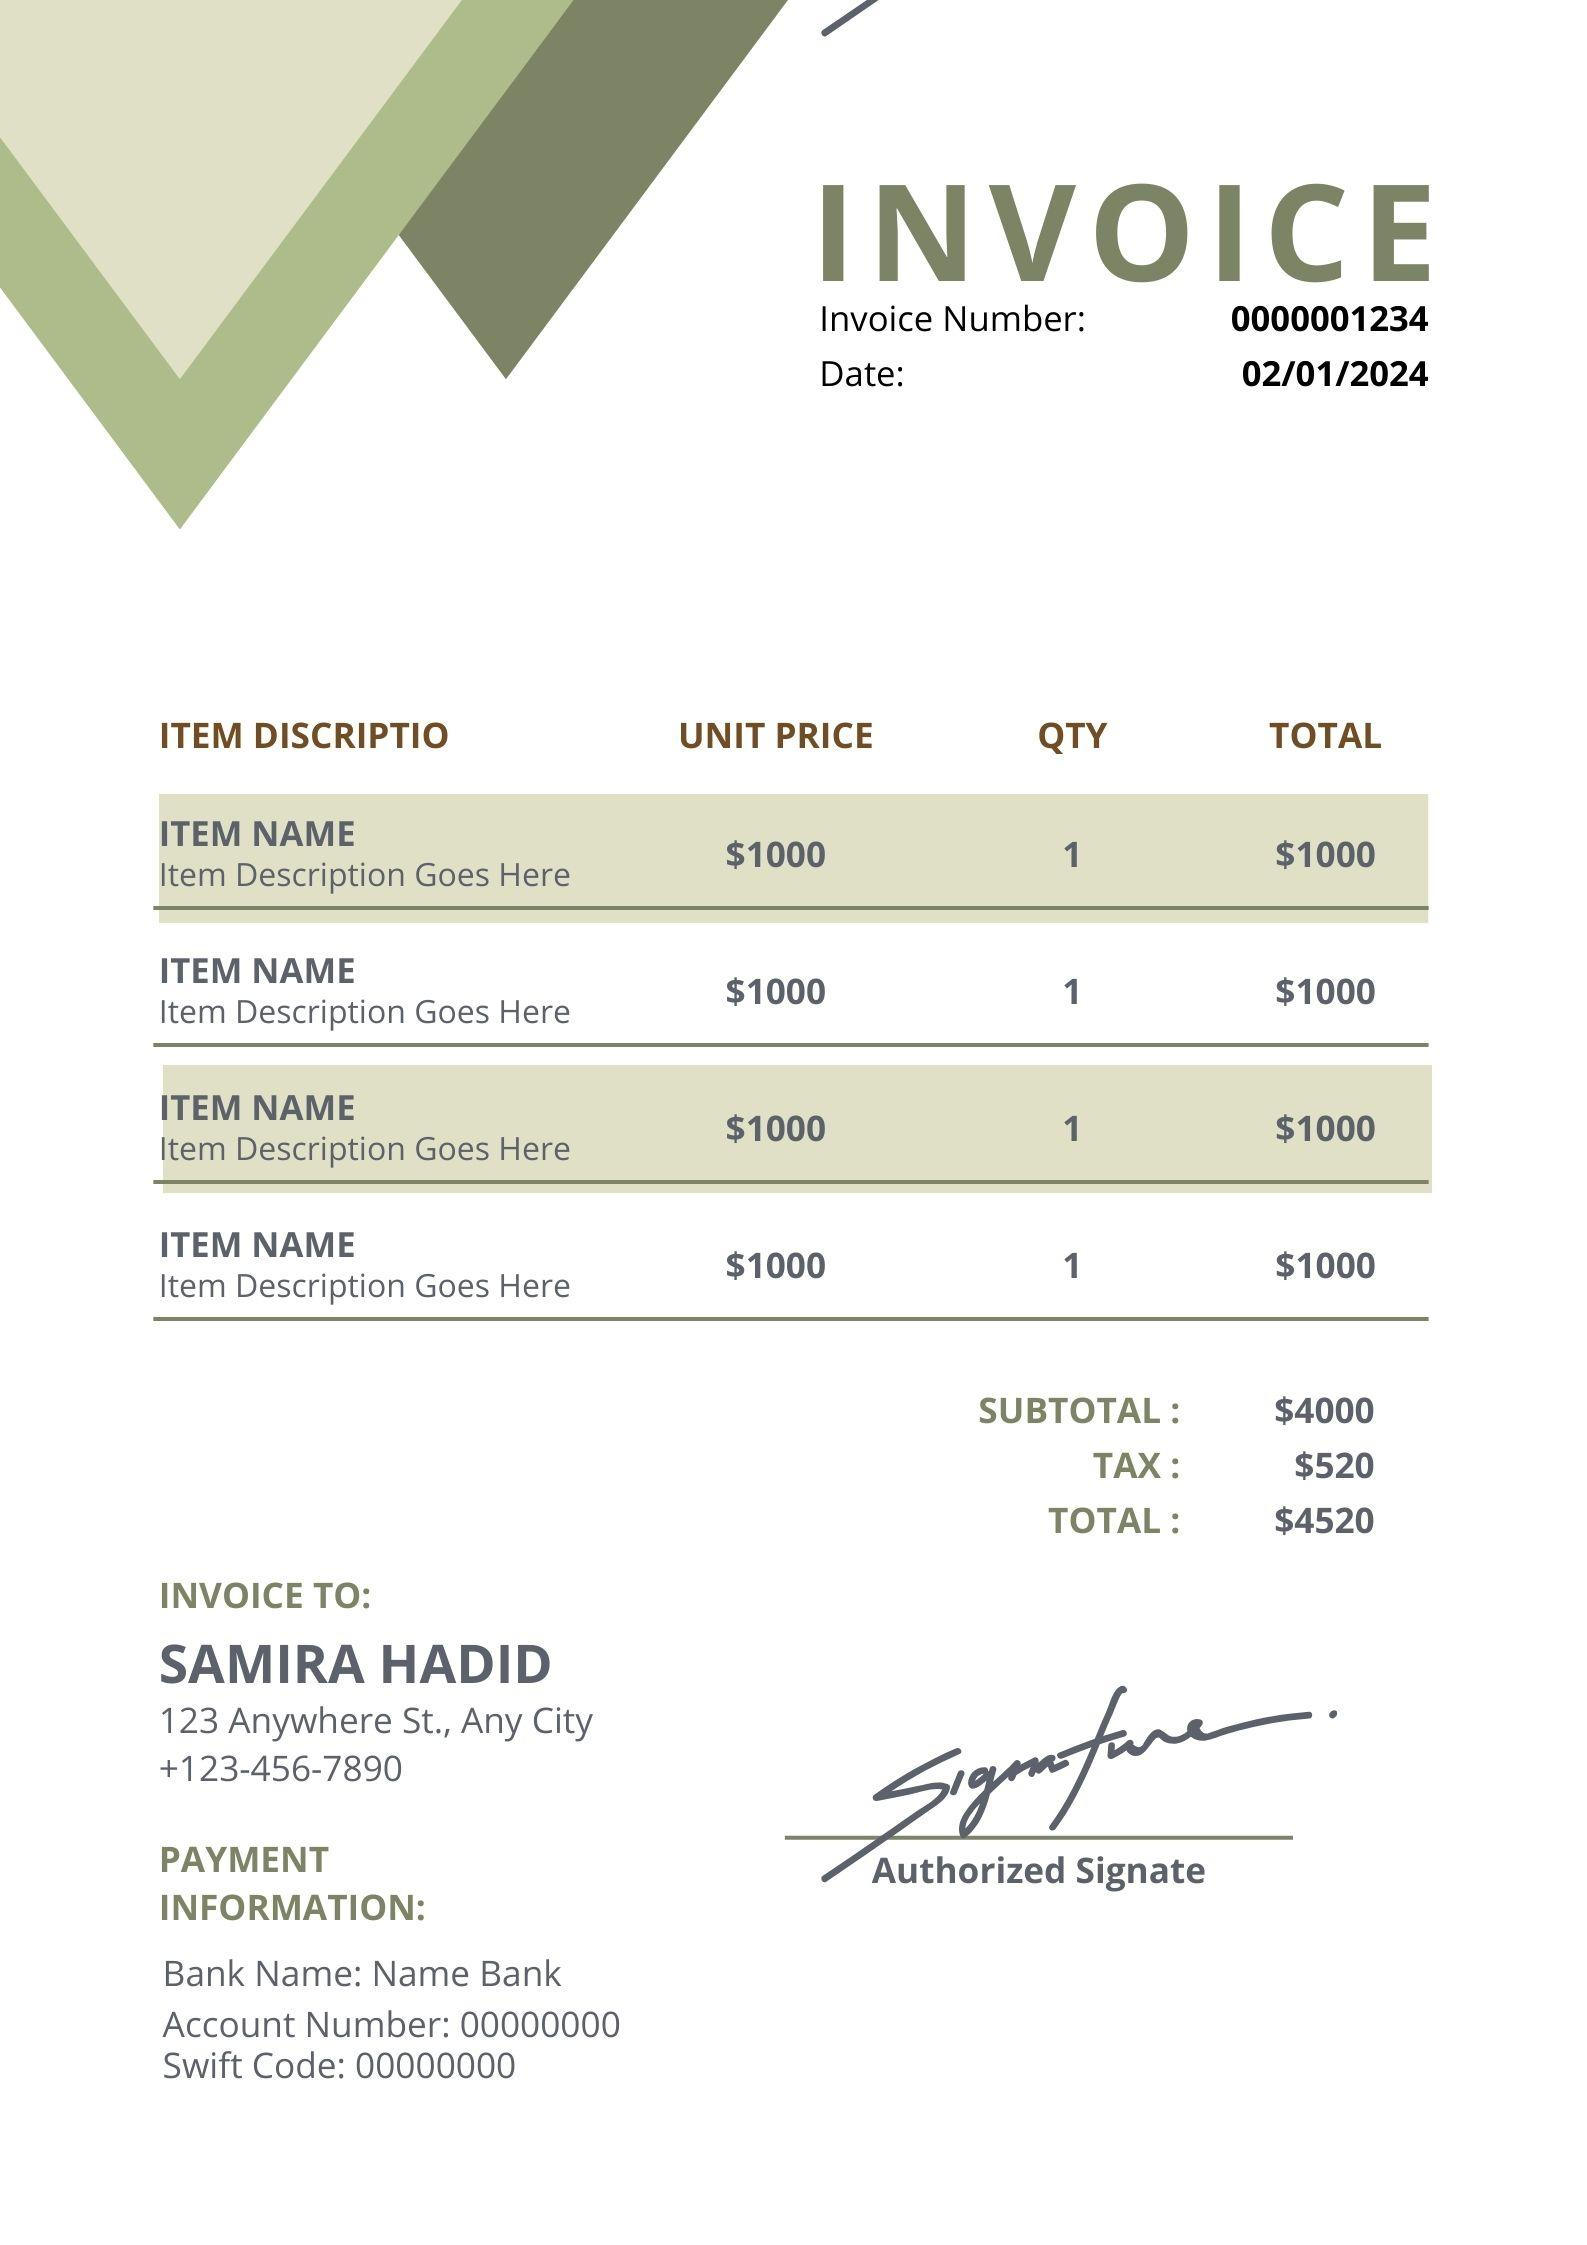ROI: (143, 701, 1450, 1333), (143, 1829, 648, 2097), (146, 1567, 620, 1804), (807, 294, 1450, 421), (967, 1376, 1383, 1560)
